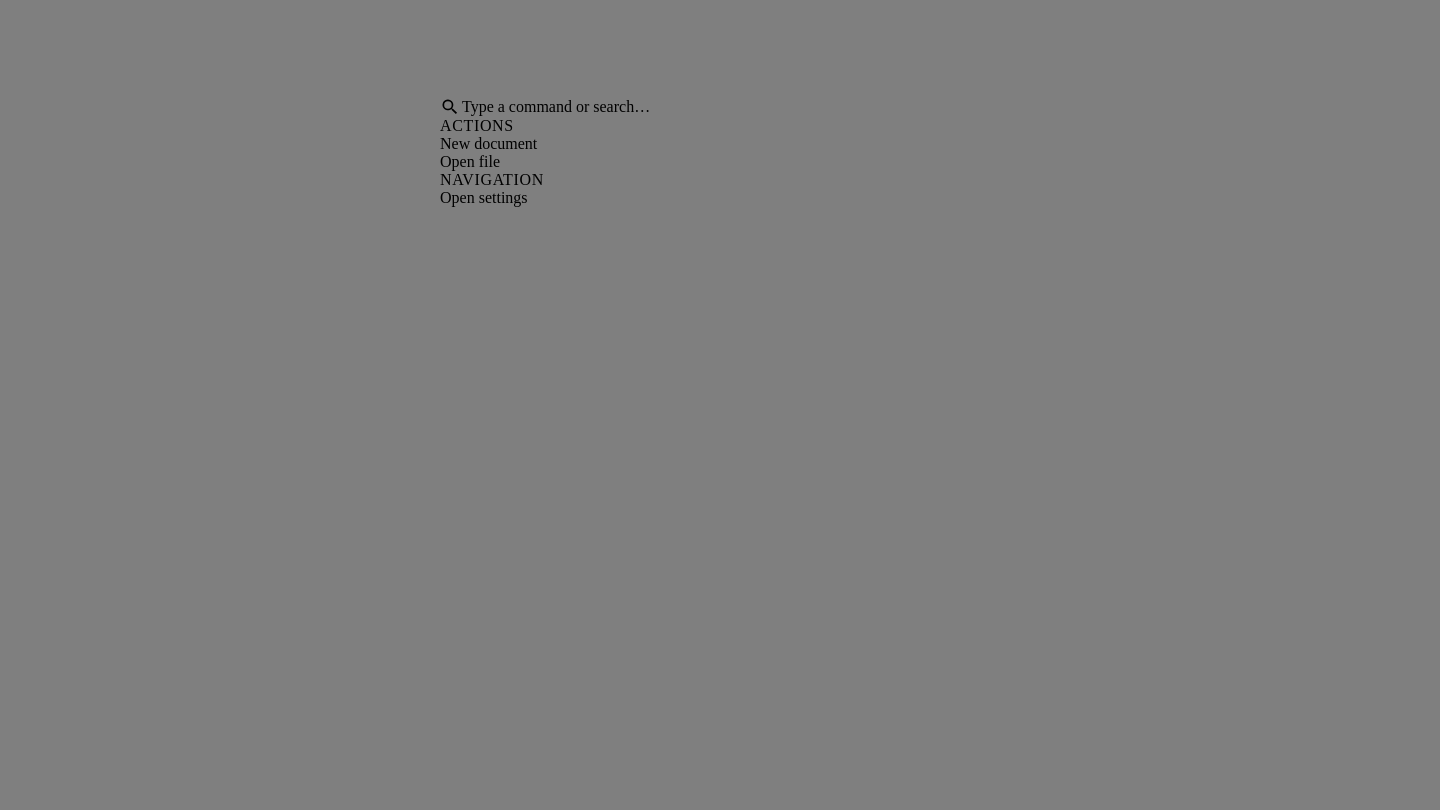
CommandPalette › shows the no-results message when nothing matches
Type "zzzzz" into the dropdown. click: (730, 107)
box: [460,98,1000,116]
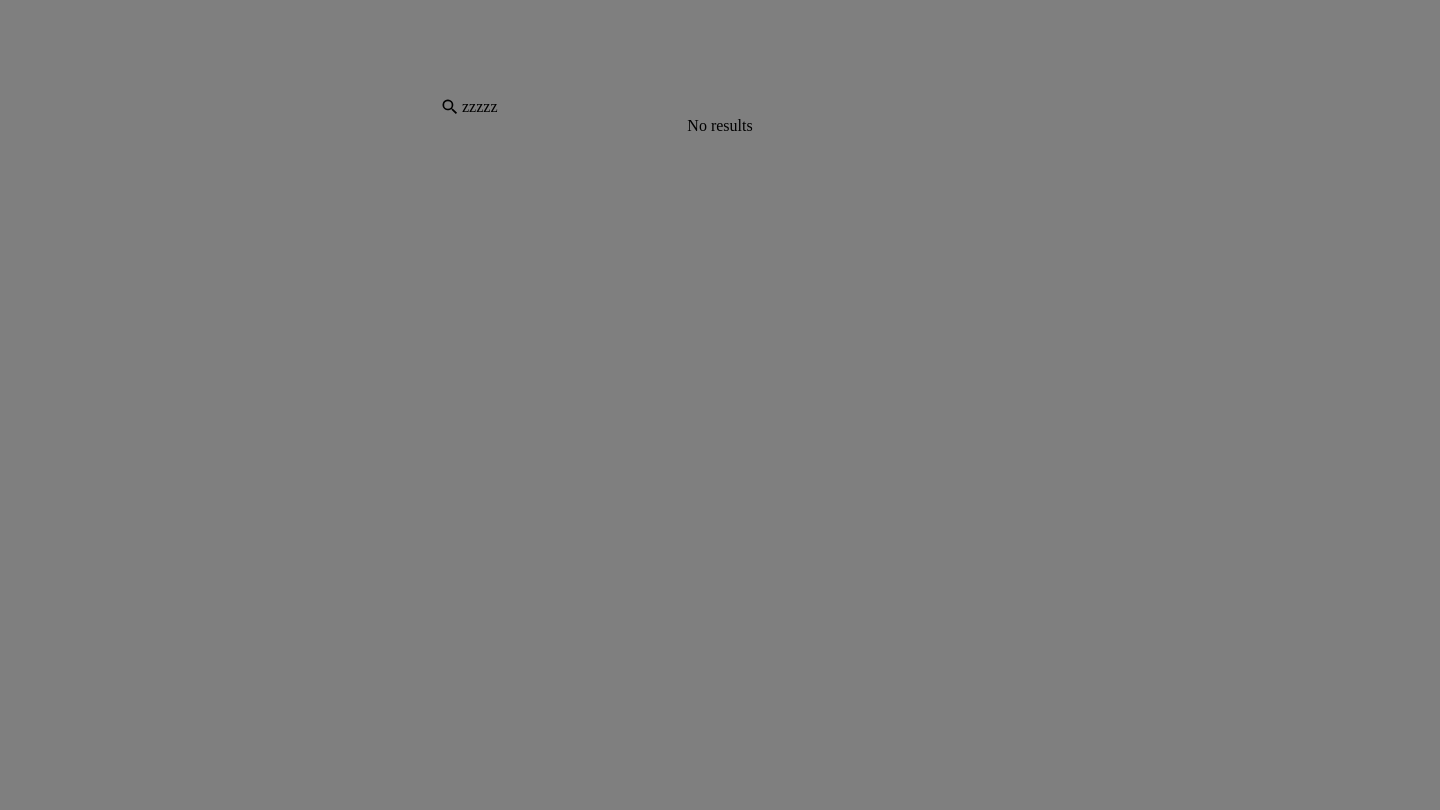
Expected: no options are shown
Expected: the list item "No results" is shown, [687,117,753,134]
